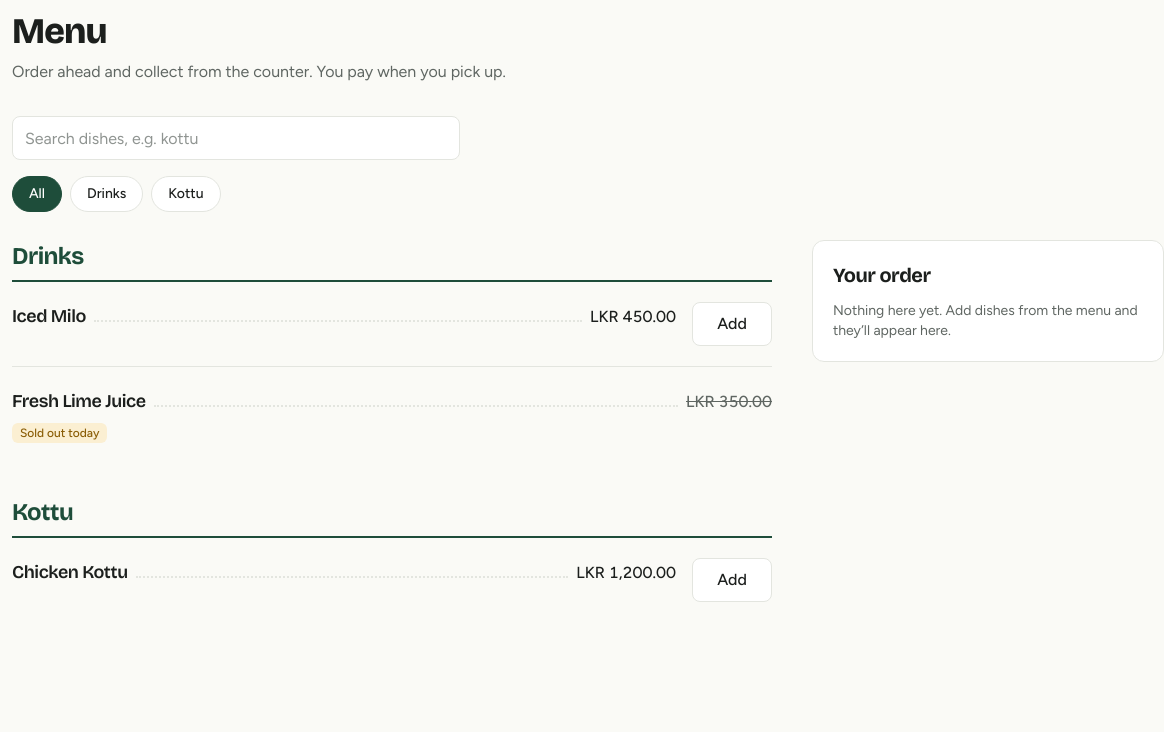
Scenario: MenuPage › searches the menu after the user stops typing
Expected: the heading "Iced Milo" is shown, [12,302,86,330]
Type "kottu" into the search field with placeholder "Search dishes, e.g. kottu" at (236, 138), box [12,116,460,160]
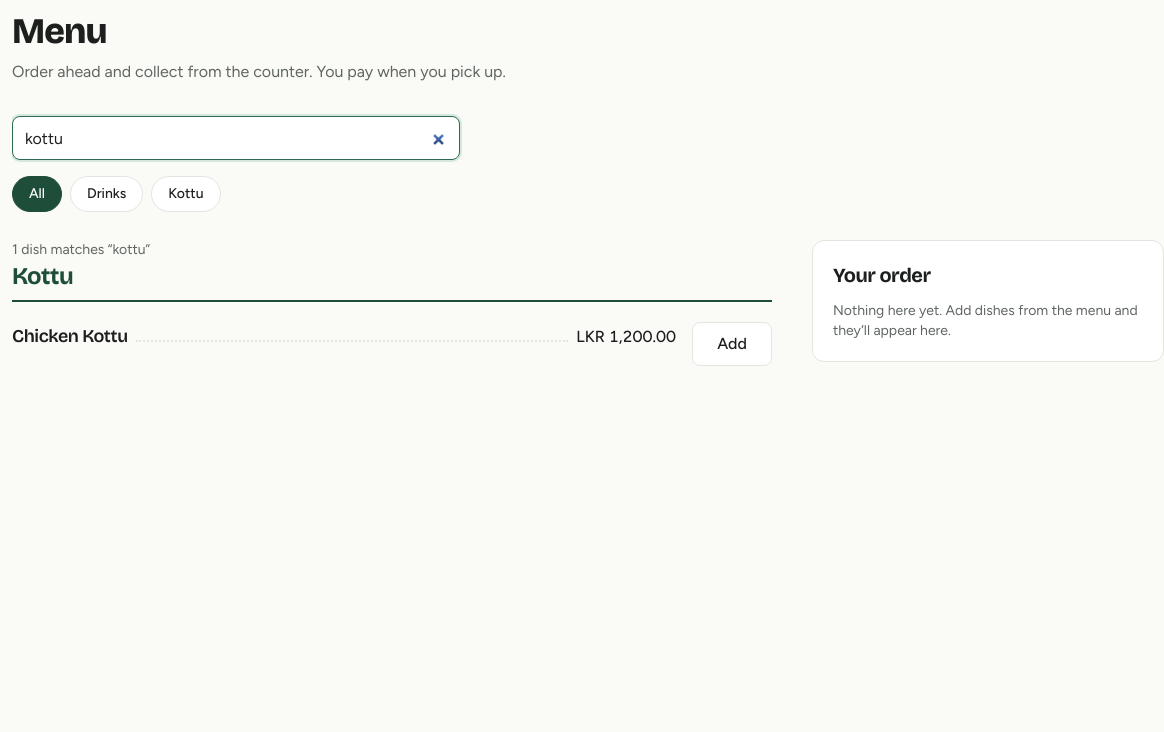
Expected: the text "1 dish matches “kottu”" is shown, [12,241,150,258]
Expected: the heading "Iced Milo" is gone
